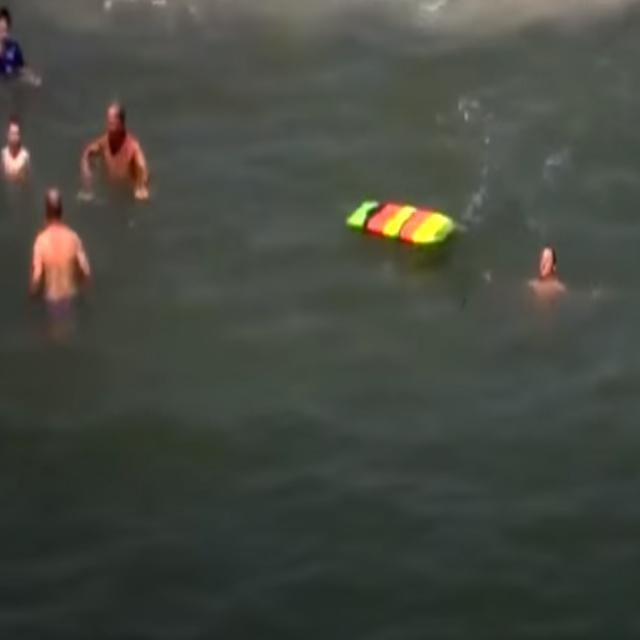drowning: (19, 183, 92, 301), (77, 88, 157, 195), (522, 239, 574, 307), (0, 119, 34, 179)
